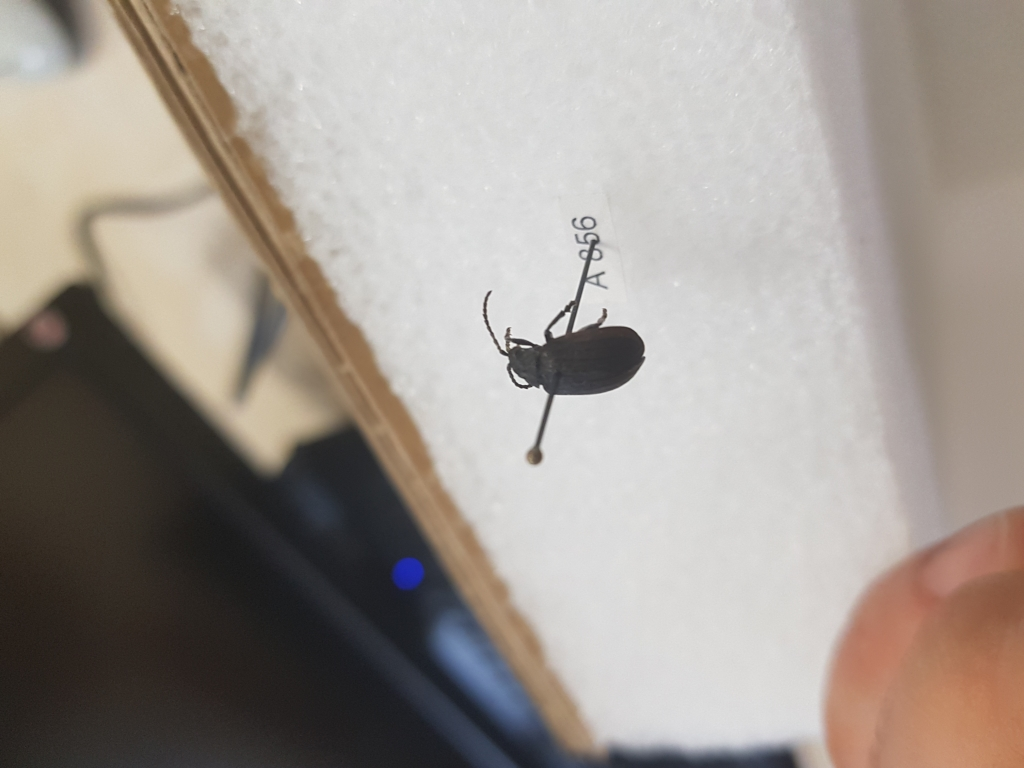Galeruca_tanaceti: (481, 288, 649, 396)
